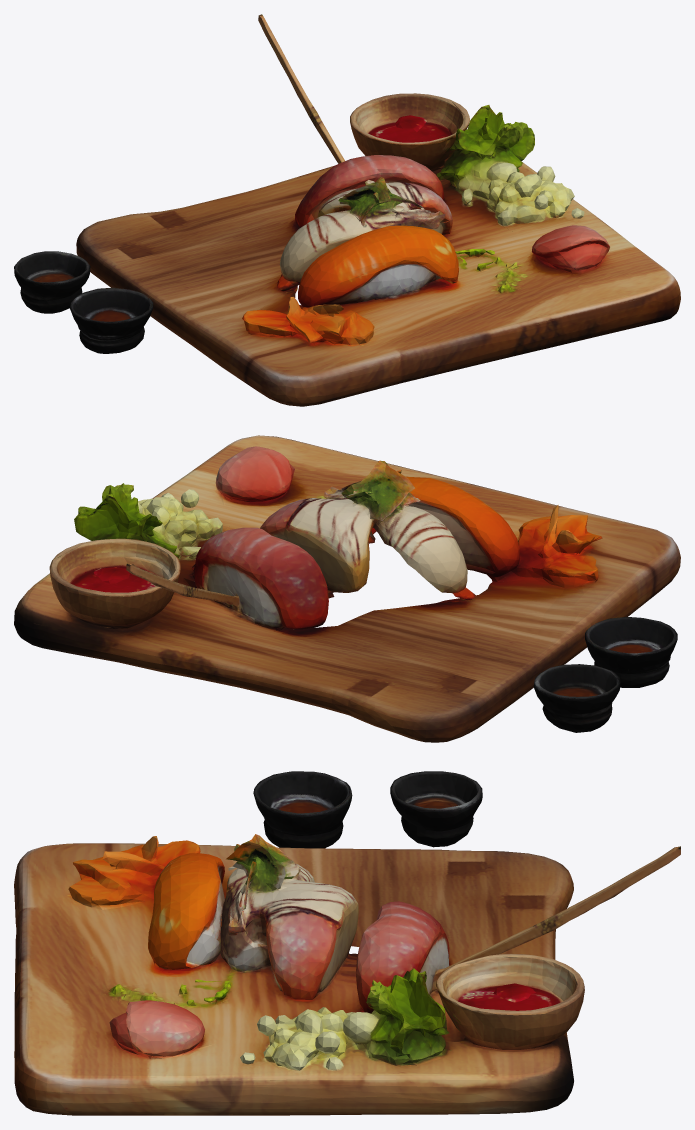
File: wooden-sushi-board-vintage.jpeg.glb
The picture shows the model from 3 angles, top to bottom: view 1: azimuth 30°, elevation 25°; view 2: azimuth 150°, elevation 25°; view 3: azimuth 270°, elevation 25°; orthographic projection. The views are drawn at different scales.
Visible parts, largest first — view 1: world; view 2: world; view 3: world.
Boxes of the visible parts, x1,y1,x2,y2 form: world: (14, 14, 680, 406); world: (14, 435, 680, 742); world: (14, 771, 680, 1115).
Size of the model in its own units: 0.9977 by 0.2771 by 0.9325.
Materials: 1 (1 with a texture image).
